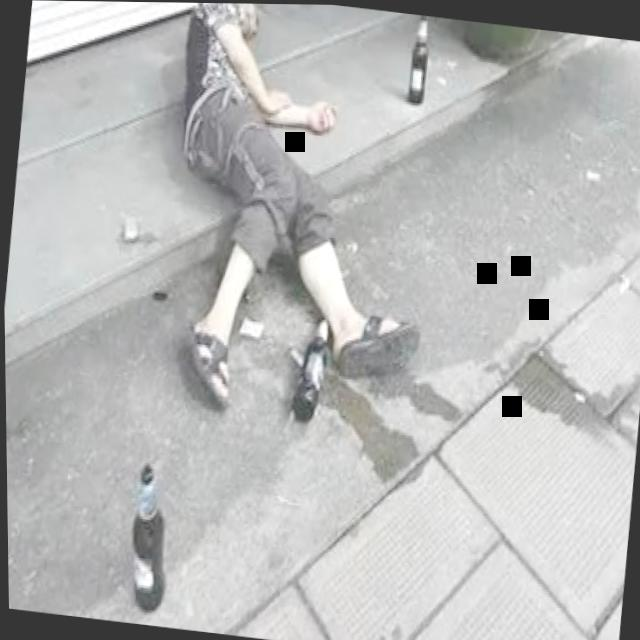Fall-Detected: (128, 1, 471, 451)
